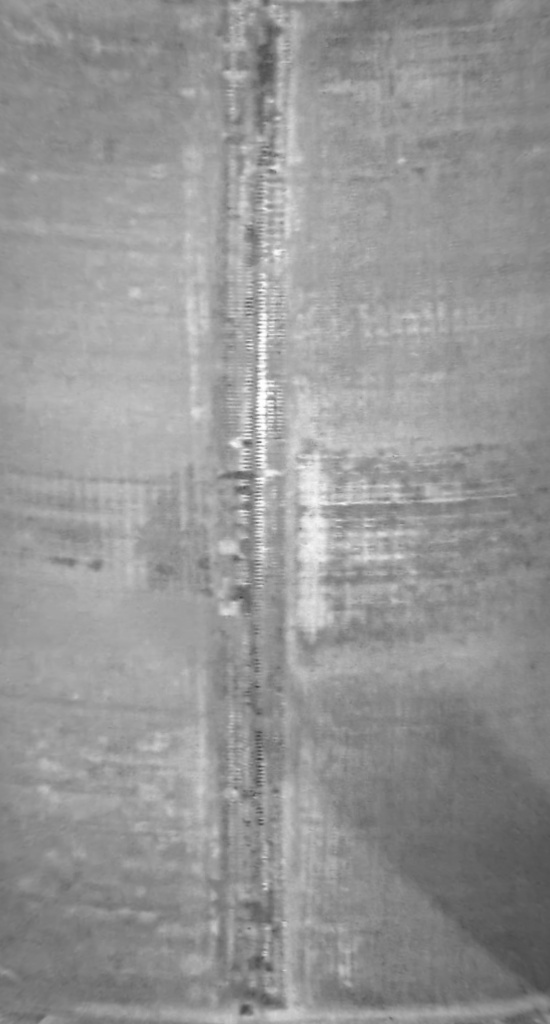splice: (204, 1, 307, 1023)
